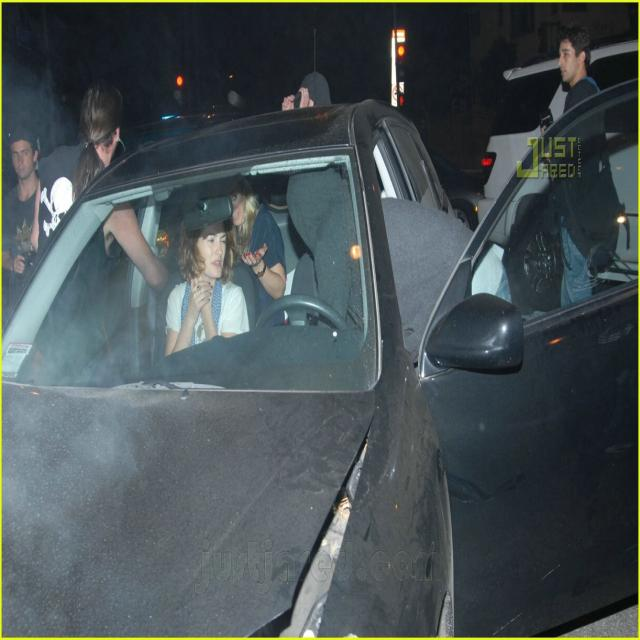misalignment: (247, 424, 371, 638)
